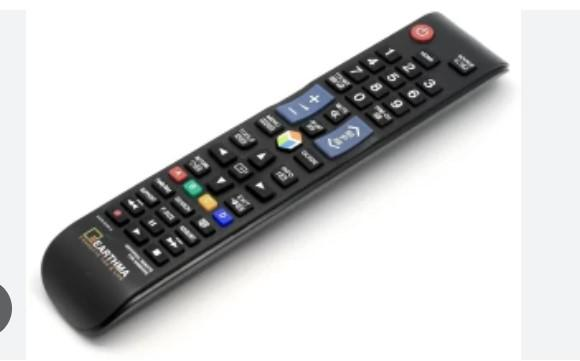Remote control: (39, 12, 509, 340)
